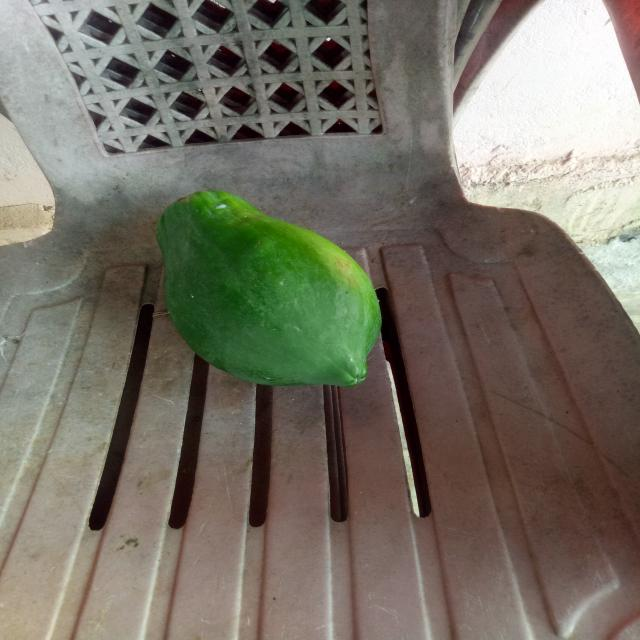Pepaya unrippen: (142, 187, 399, 402)
